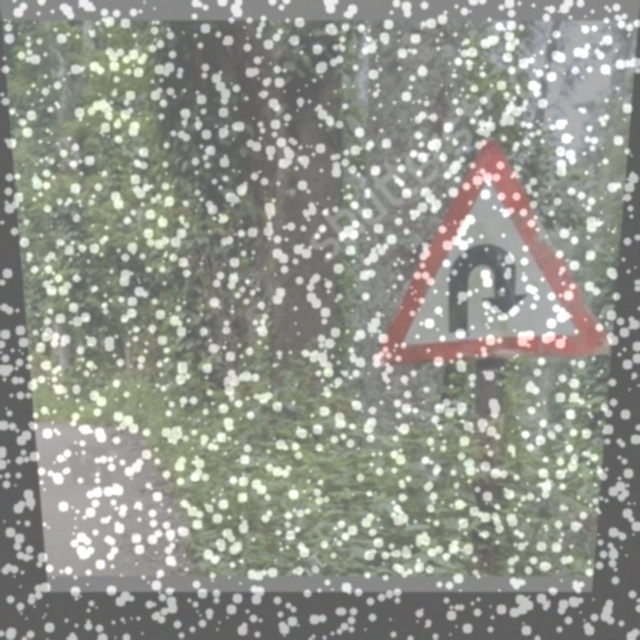Right_Hair_Pin_Bend: (388, 136, 627, 356)
